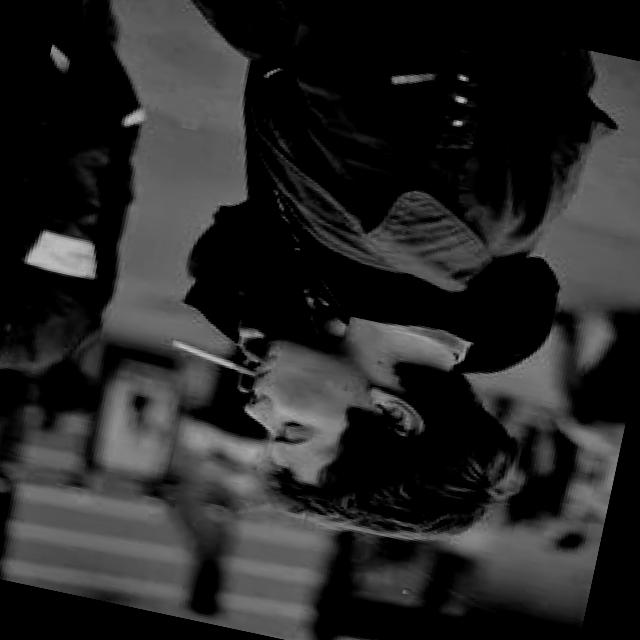cigarette: (160, 332, 274, 382)
